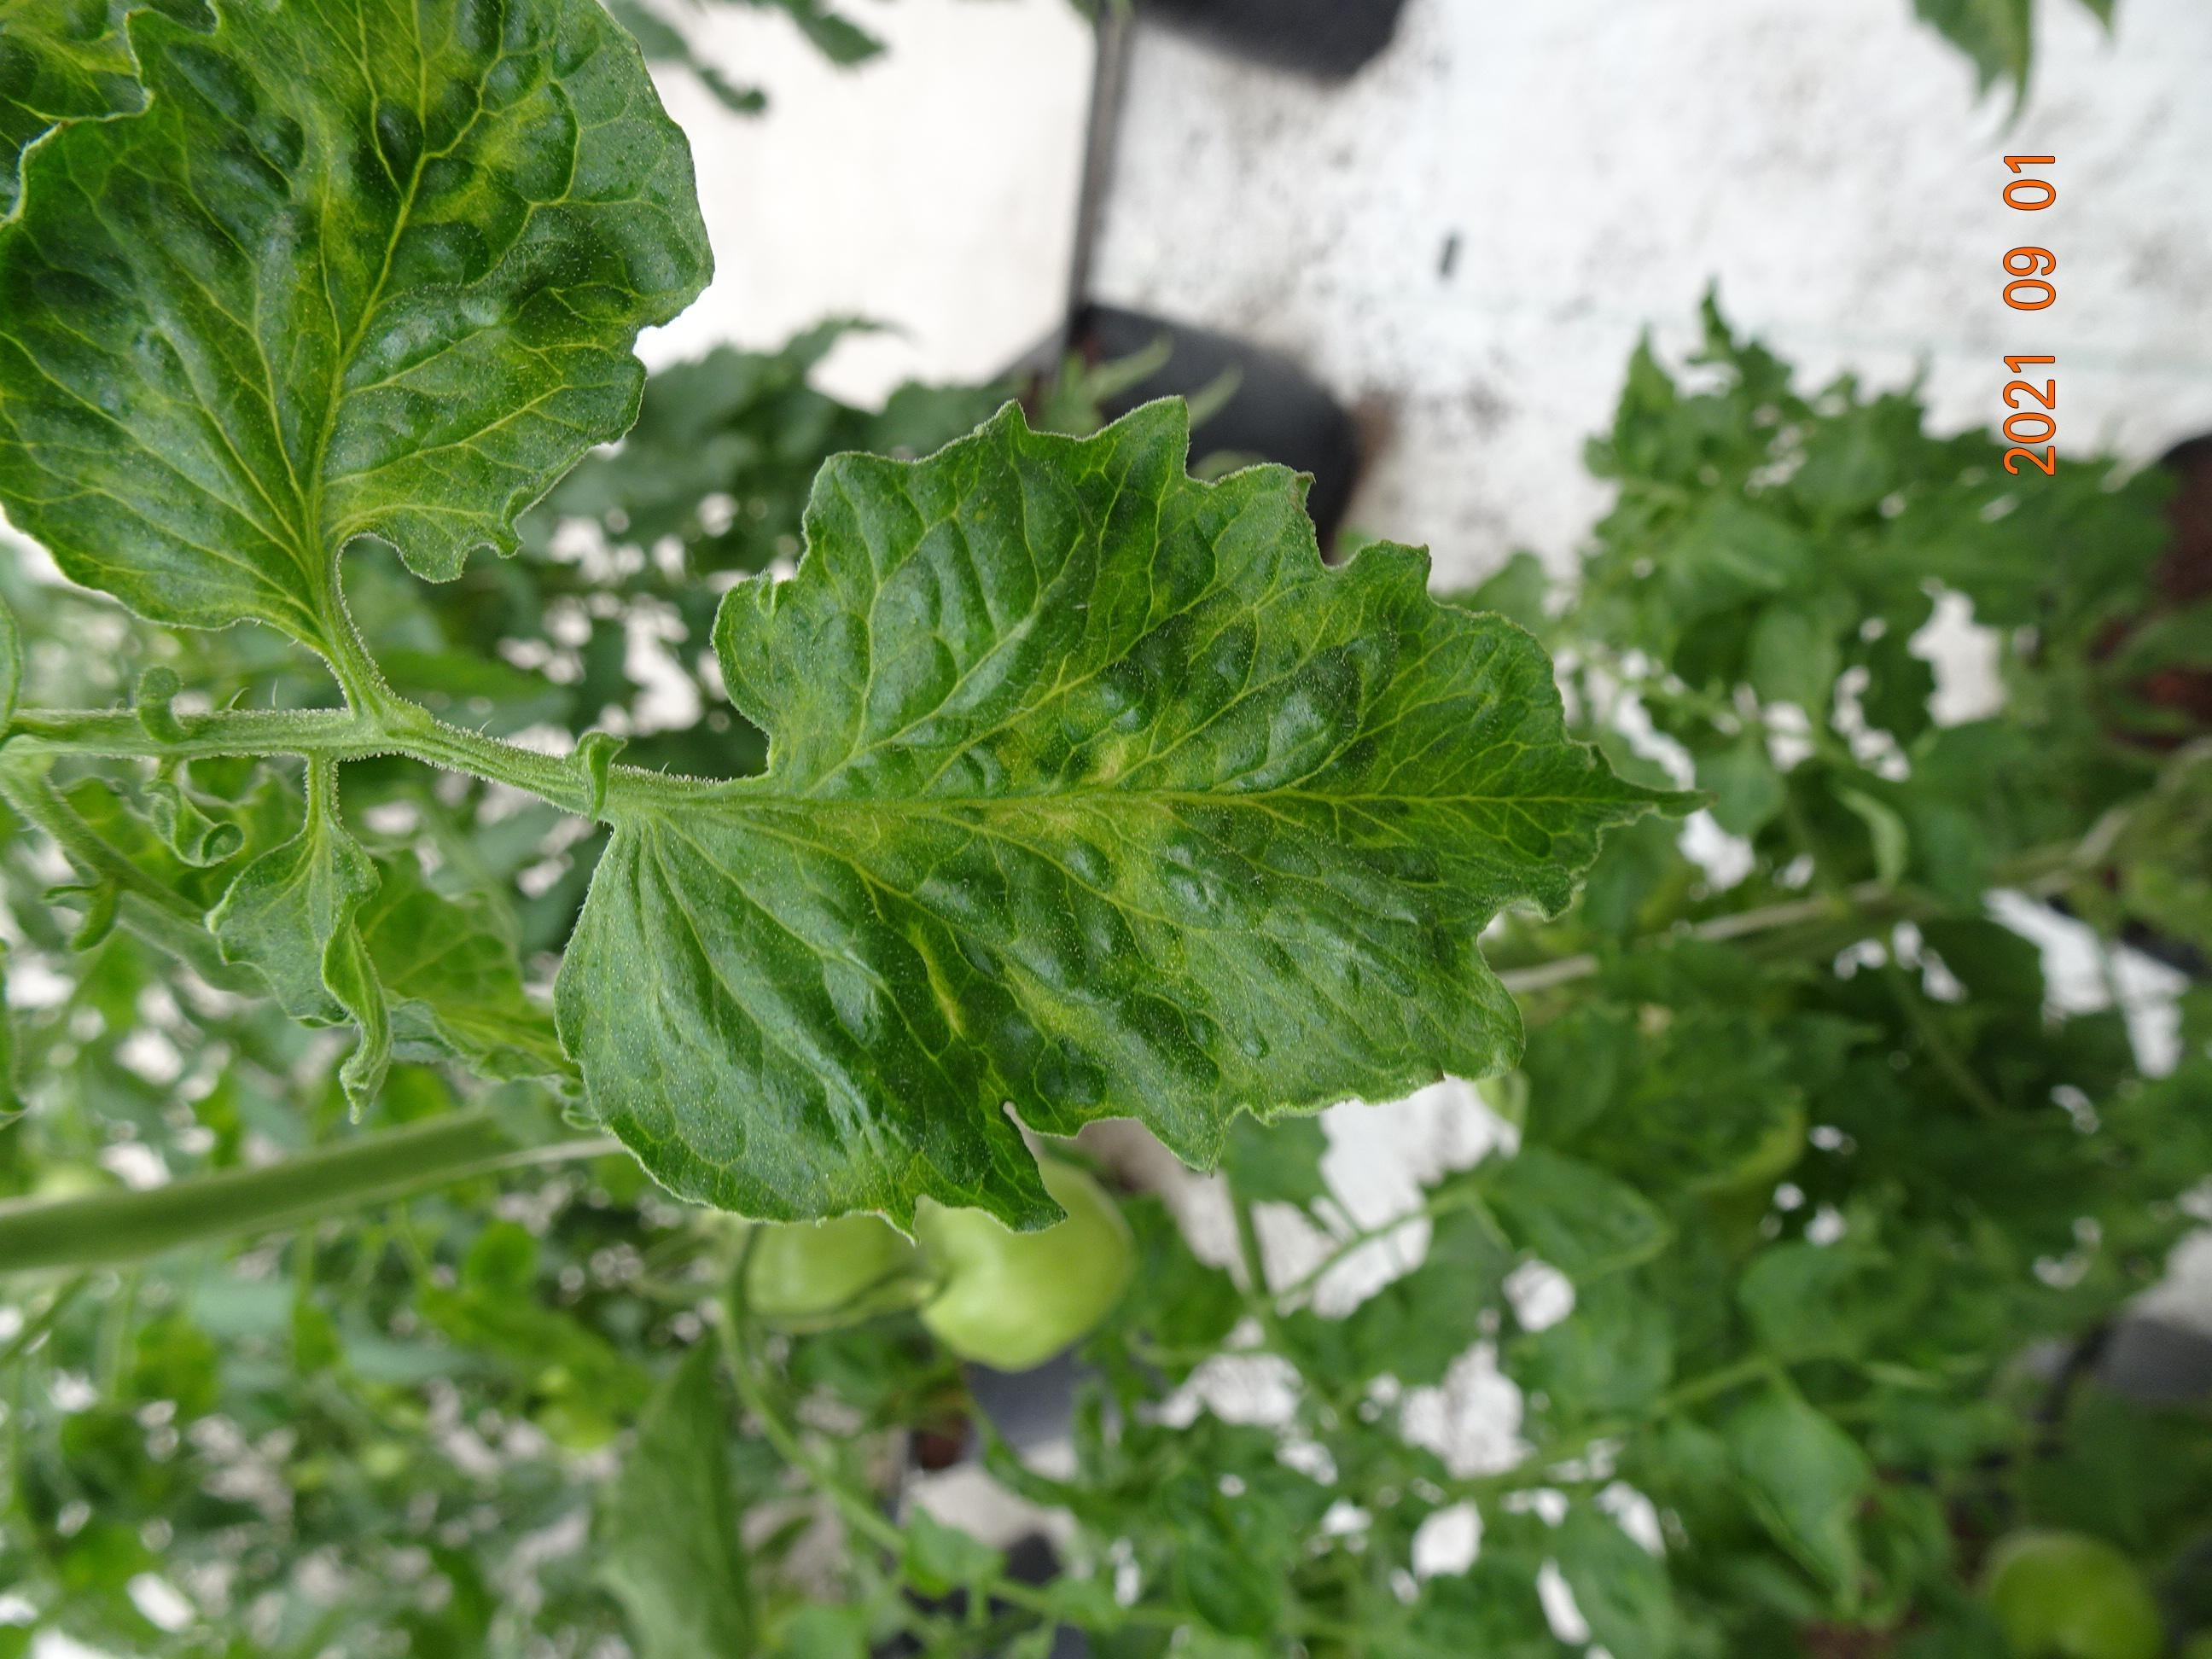Hoja rugoso: (557, 397, 1672, 1227), (0, 3, 709, 704)
